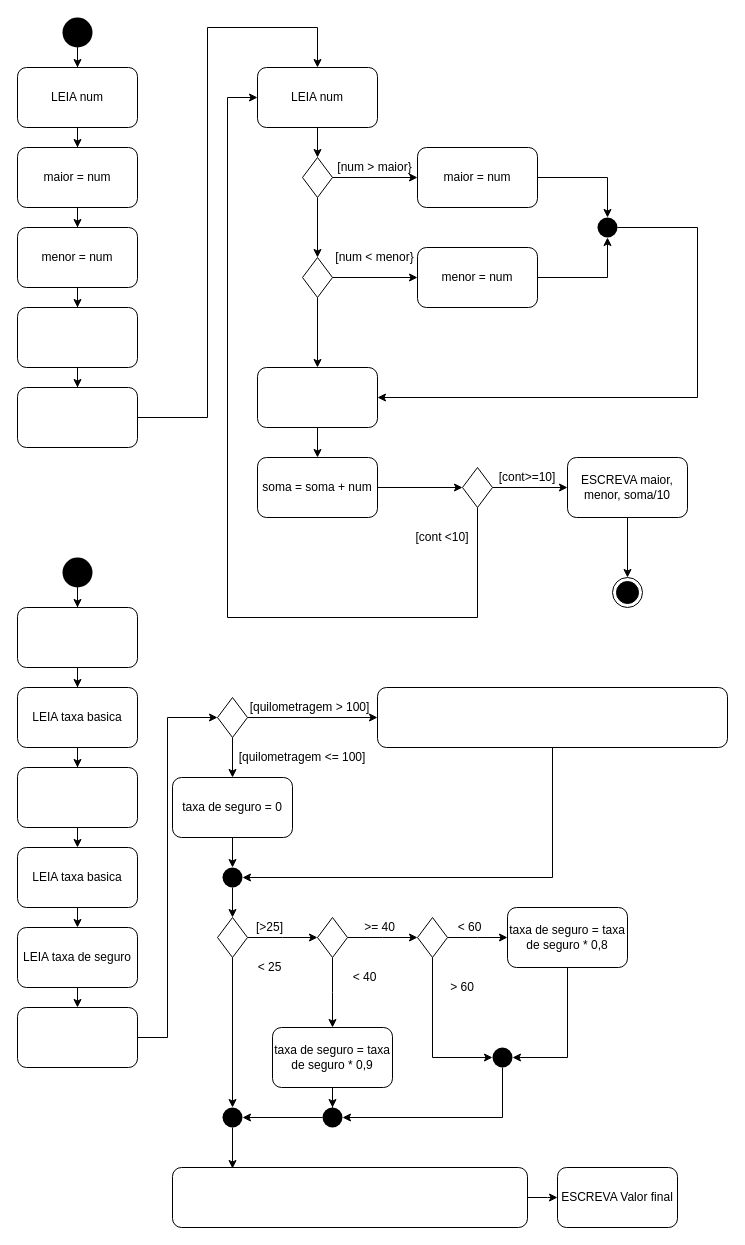
This 745x1245 diagram has some shape labels left out. The shapes that lost their labels are listed below. From the top down, each one's centre as x and y in pixels, then its label:
At point 77,337: "soma = num".
At point 77,417: "count = 1".
At point 317,397: "count = count+1".
At point 77,637: "LEIA idade".
At point 552,717: "taxa por quilometro = taxa por quilometro * quilometragem".
At point 77,797: "LEIA taxa por quilometro".
At point 77,1037: "Valor final = 0".
At point 350,1197: "Valor final = taxa basica + taxa por quilometro + taxa de seguro".
